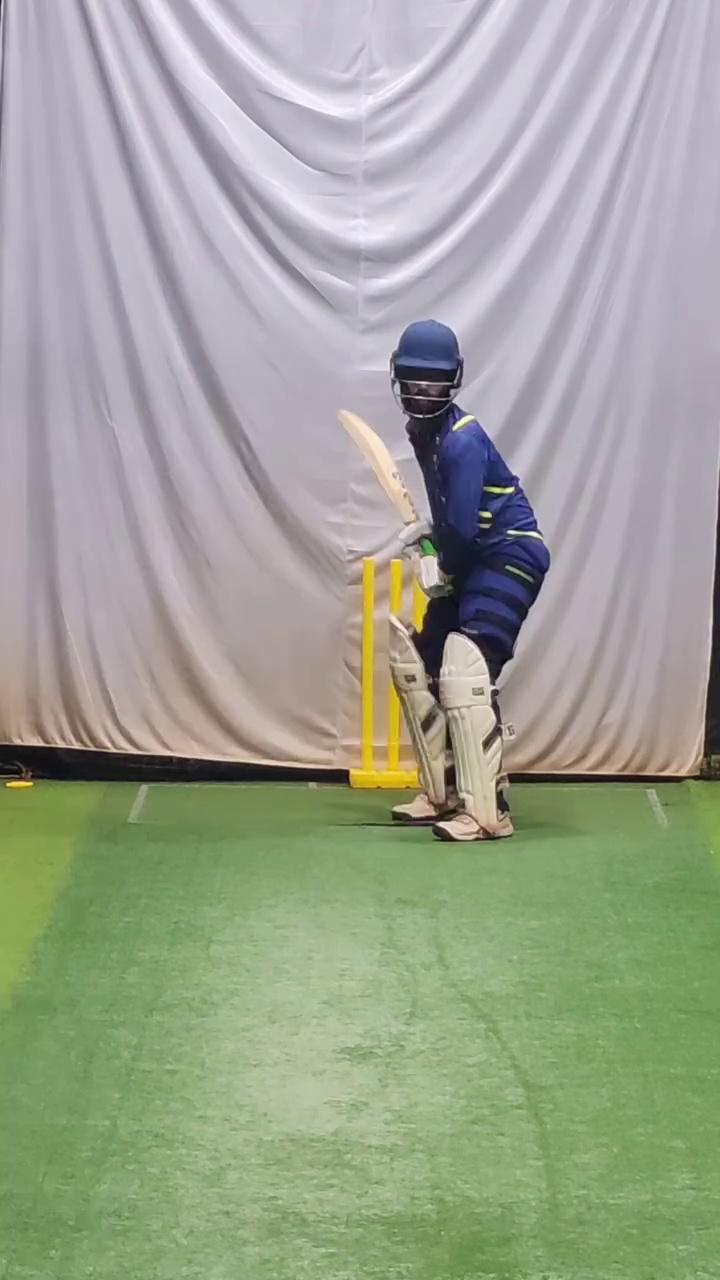bat: (329, 390, 422, 533)
